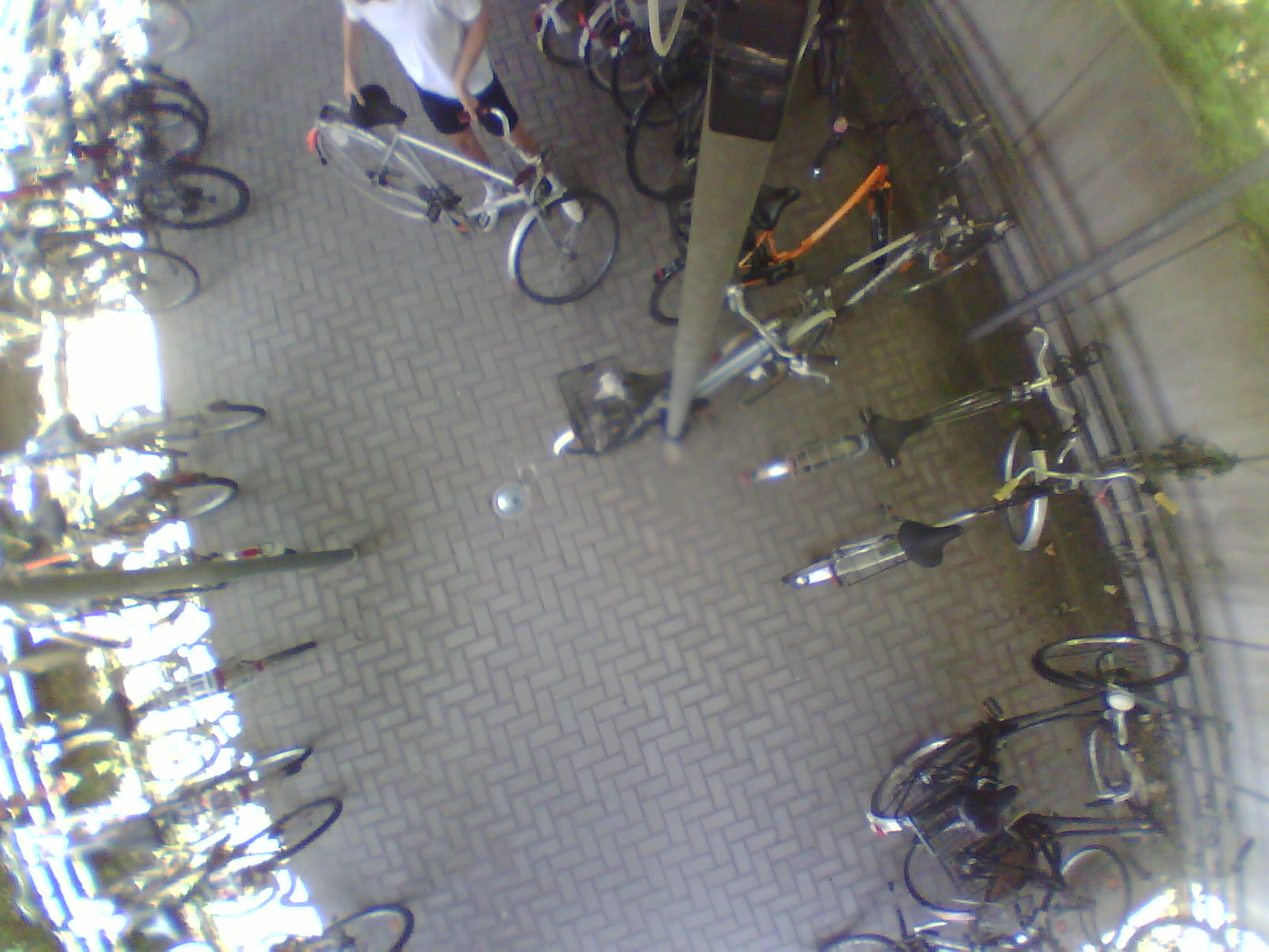bicylce: (656, 107, 940, 340), (306, 97, 617, 301), (867, 638, 1183, 831), (778, 413, 1086, 593), (15, 795, 342, 951), (621, 0, 863, 194), (0, 716, 320, 858), (750, 358, 1077, 492), (563, 307, 843, 462), (0, 639, 319, 760), (745, 202, 998, 353), (0, 147, 251, 249), (7, 470, 232, 583), (0, 398, 265, 484), (0, 241, 213, 329)
saddle: (60, 683, 147, 747), (7, 405, 109, 457), (7, 489, 78, 553), (88, 807, 172, 856), (898, 515, 961, 566), (958, 784, 1027, 830), (349, 81, 408, 133), (797, 249, 858, 292), (751, 185, 814, 226), (869, 409, 925, 455), (622, 363, 672, 409), (2, 228, 43, 260), (41, 117, 80, 148)
